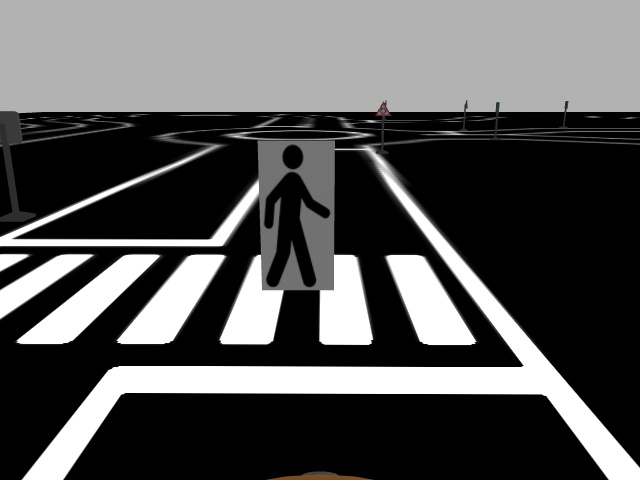pedestrian: (255, 138, 335, 292)
